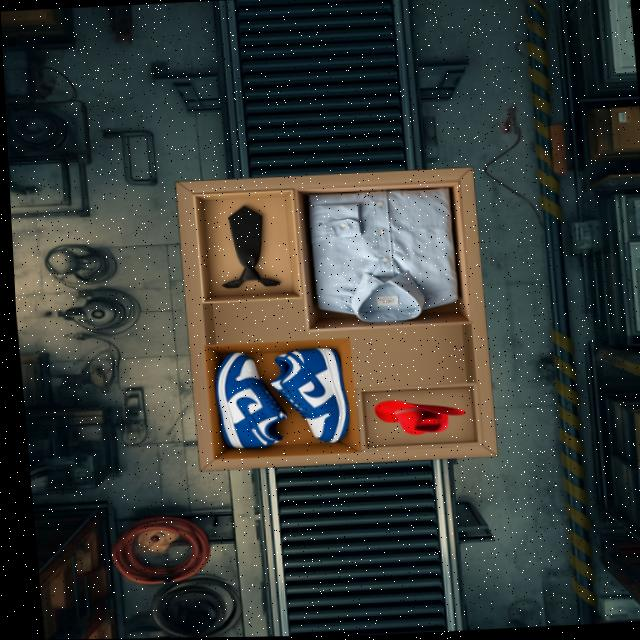hat: (374, 400, 465, 435)
shirt: (308, 188, 457, 323)
sneaker: (271, 348, 349, 442), (215, 352, 286, 448)
tie: (222, 206, 279, 288)
